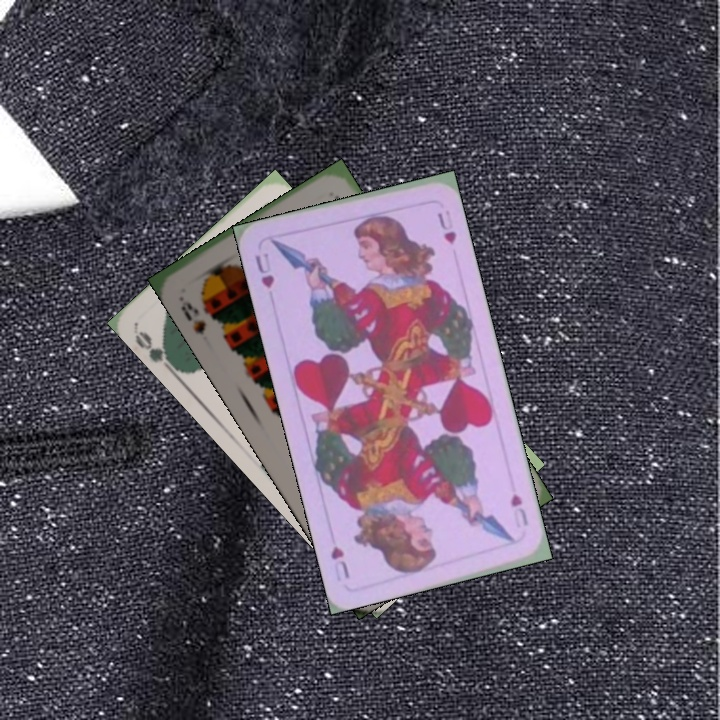GO: (131, 326, 179, 376)
HU: (251, 249, 277, 291), (506, 489, 531, 531)
S8: (174, 291, 209, 338)
